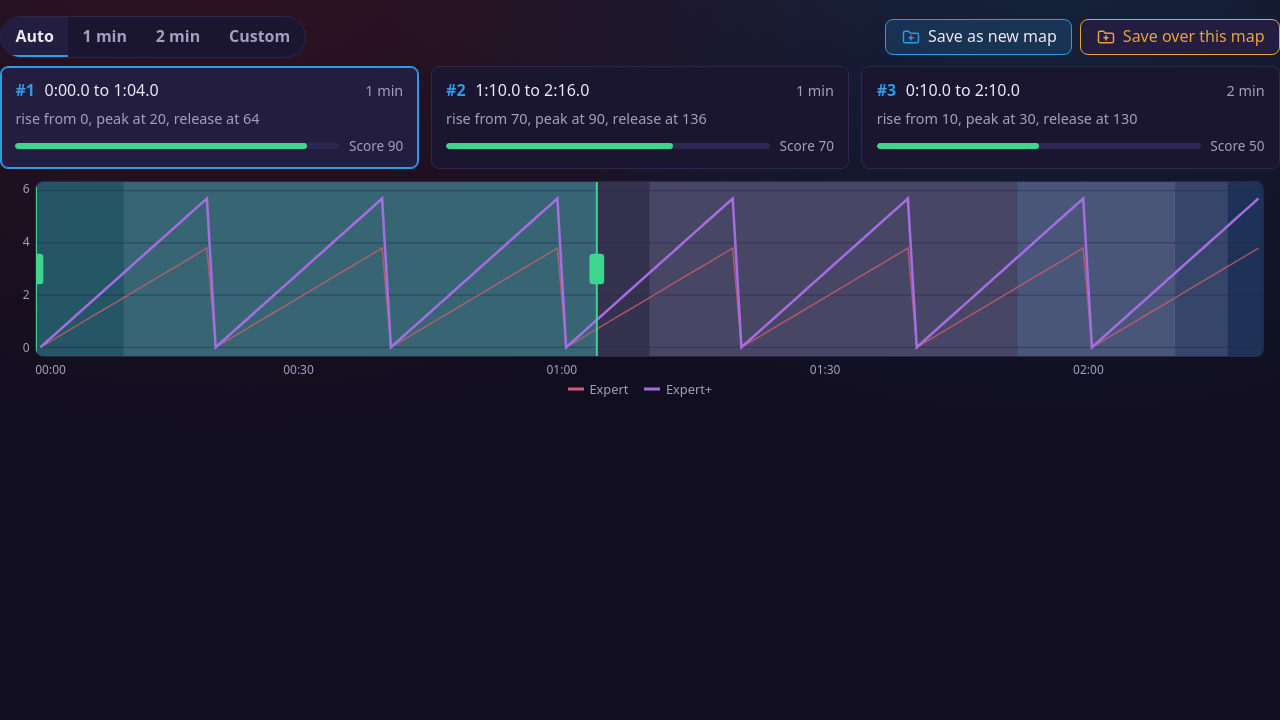
Save over this map › sits next to Save as new map and opens the replace confirmation
Expected: the slider labelled "Crop end" is shown, [590,182,604,356]
Step 1. Click the button "Save over this map" → [1180, 37], box [1080,19,1279,55]
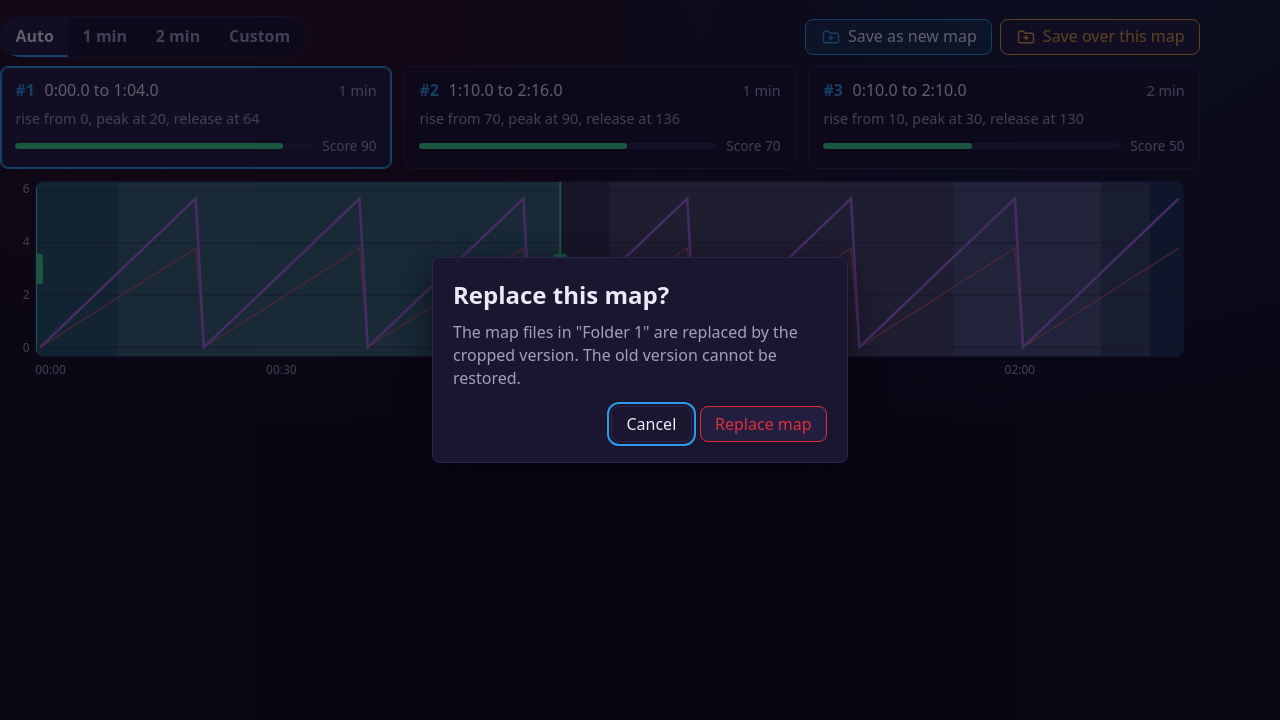
Now the dialog "Replace this map?" shows "\"Folder 1\"", box [453,321,798,389]
Now the dialog "Replace this map?" shows "replaced by the cropped version", box [453,321,798,389]
Now the dialog "Replace this map?" shows "cannot be restored", box [453,321,798,389]
